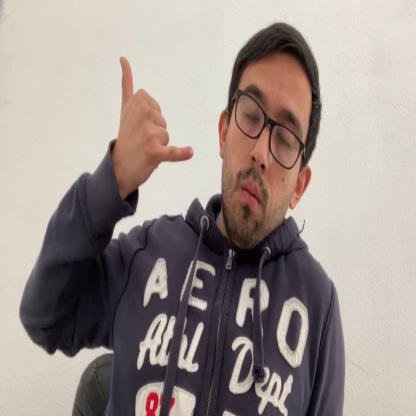Y: (116, 57, 193, 188)
